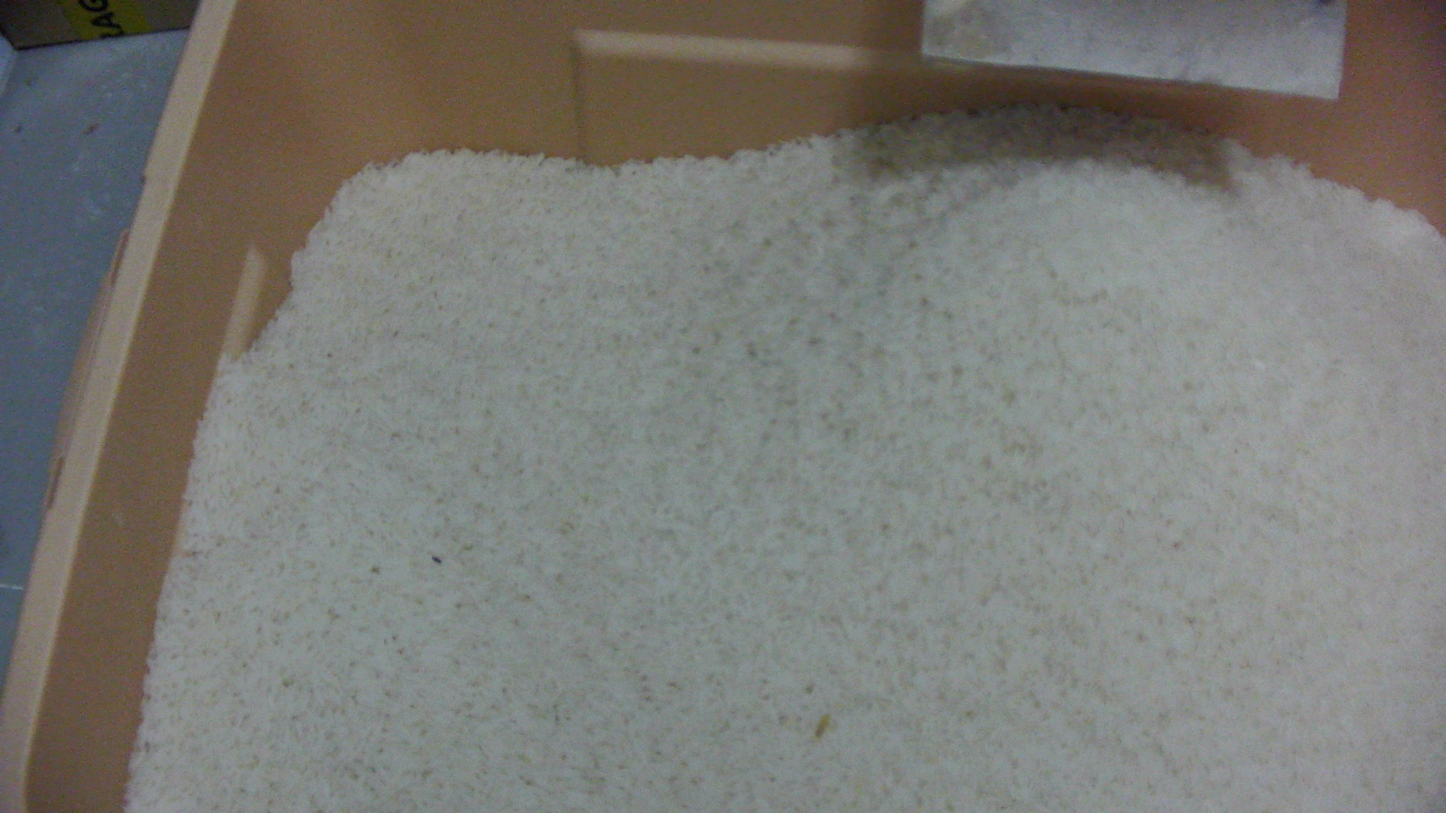Rice_Weevil: (419, 545, 455, 572)
paddy: (800, 701, 845, 741)
